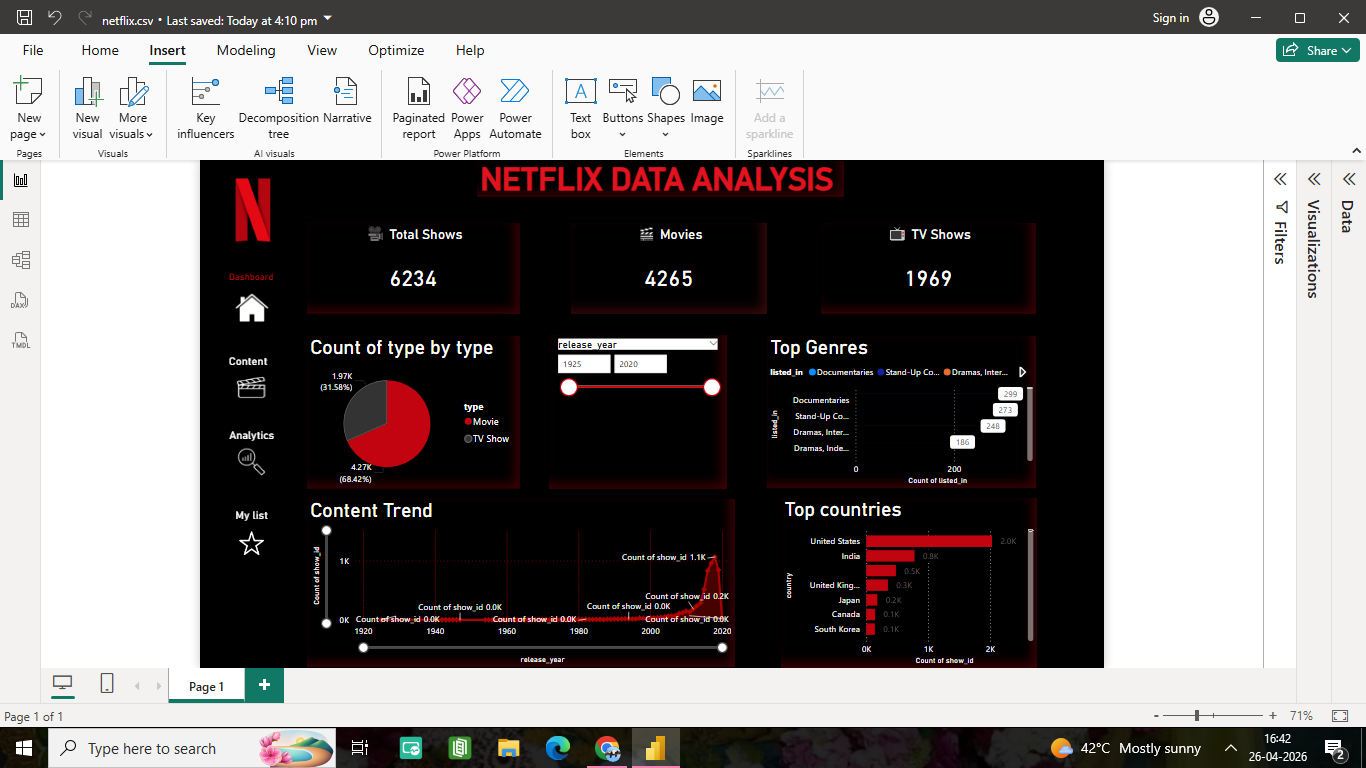

This screenshot's page, from the dashboard's own definition file:
{"tool":"powerbi","page":{"name":"Page 1","canvas":[1280,720],"ordinal":0},"visuals":[{"type":"clusteredBarChart","title":"Top Genres","fields":{"Category":["netflix_titles.listed_in"],"Series":["netflix_titles.listed_in"],"Y":["CountNonNull(netflix_titles.listed_in)"]},"box":[801.6,247.4,384.3,217.7],"z":0},{"type":"lineChart","title":"Content Trend","fields":{"Category":["netflix_titles.release_year"],"Y":["CountNonNull(netflix_titles.show_id)"]},"box":[150.1,478.4,608.7,240.8],"z":1000},{"type":"clusteredBarChart","title":"Top countries","fields":{"Category":["netflix_titles.country"],"Y":["CountNonNull(netflix_titles.show_id)"]},"box":[823.1,478.4,362.9,240.8],"z":2000},{"type":"card","title":"📺 TV Shows","fields":{"Values":["CountNonNull(netflix_titles.show_id)"]},"box":[879.2,87.4,306.8,132],"z":3000},{"type":"card","title":"🎬 Movies","fields":{"Values":["CountNonNull(netflix_titles.show_id)"]},"box":[524.5,87.4,280.4,132],"z":4000},{"type":"card","title":"🎥 Total Shows","fields":{"Values":["CountNonNull(netflix_titles.show_id)"]},"box":[150.1,87.4,303.5,132],"z":5000},{"type":"slicer","fields":{"Values":["netflix_titles.release_year"]},"box":[494.8,247.4,252.4,217.7],"z":6000},{"type":"pieChart","fields":{"Category":["netflix_titles.type"],"Y":["CountNonNull(netflix_titles.type)"]},"box":[150.1,247.4,303.5,219.4],"z":7000},{"type":"textbox","title":"NETFLIX DATA ANALYSIS","box":[390.9,0,522.9,54.4],"z":8000},{"type":"image","box":[0,0,150.1,141.9],"z":9000},{"type":"image","title":"Content","box":[41.2,275.5,64.3,70.9],"z":10000},{"type":"image","title":"My list","box":[41.2,493.2,64.3,75.9],"z":11000},{"type":"image","title":"Analytics","box":[41.2,379.4,64.3,72.6],"z":12000},{"type":"image","title":"Dashboard","box":[41.2,158.4,64.3,80.8],"z":13000}]}

Visuals, with their boxes on the page's 1280x720 design canvas (x1, y1, x2, y2). These are canvas units, not pixel positions in the 1366x768 screenshot, which may show the page scaled, cropped or inside an application window:
"Top Genres" clusteredBarChart: bbox=(802, 247, 1186, 465)
"Content Trend" lineChart: bbox=(150, 478, 759, 719)
"Top countries" clusteredBarChart: bbox=(823, 478, 1186, 719)
"📺 TV Shows" card: bbox=(879, 87, 1186, 219)
"🎬 Movies" card: bbox=(524, 87, 805, 219)
"🎥 Total Shows" card: bbox=(150, 87, 454, 219)
slicer - netflix_titles.release_year: bbox=(495, 247, 747, 465)
pieChart - netflix_titles.type x CountNonNull(netflix_titles.type): bbox=(150, 247, 454, 467)
"NETFLIX DATA ANALYSIS" textbox: bbox=(391, 0, 914, 54)
image: bbox=(0, 0, 150, 142)
"Content" image: bbox=(41, 276, 106, 346)
"My list" image: bbox=(41, 493, 106, 569)
"Analytics" image: bbox=(41, 379, 106, 452)
"Dashboard" image: bbox=(41, 158, 106, 239)
